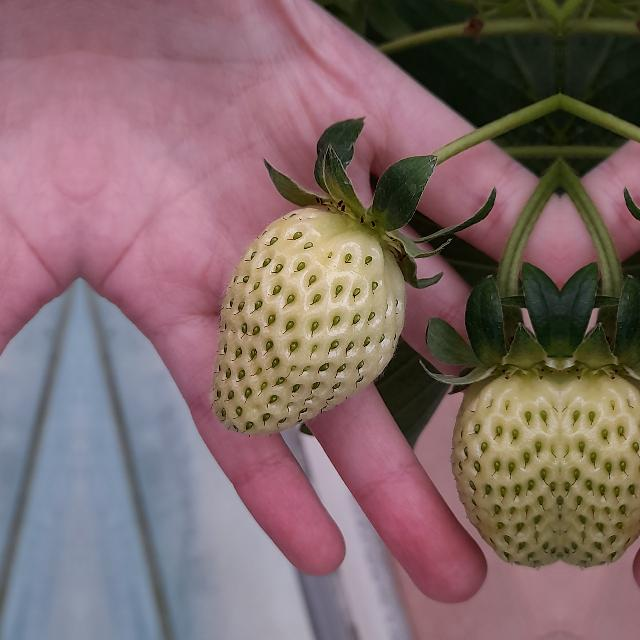Health_25: (210, 208, 406, 434), (452, 339, 560, 569), (560, 339, 640, 569)
